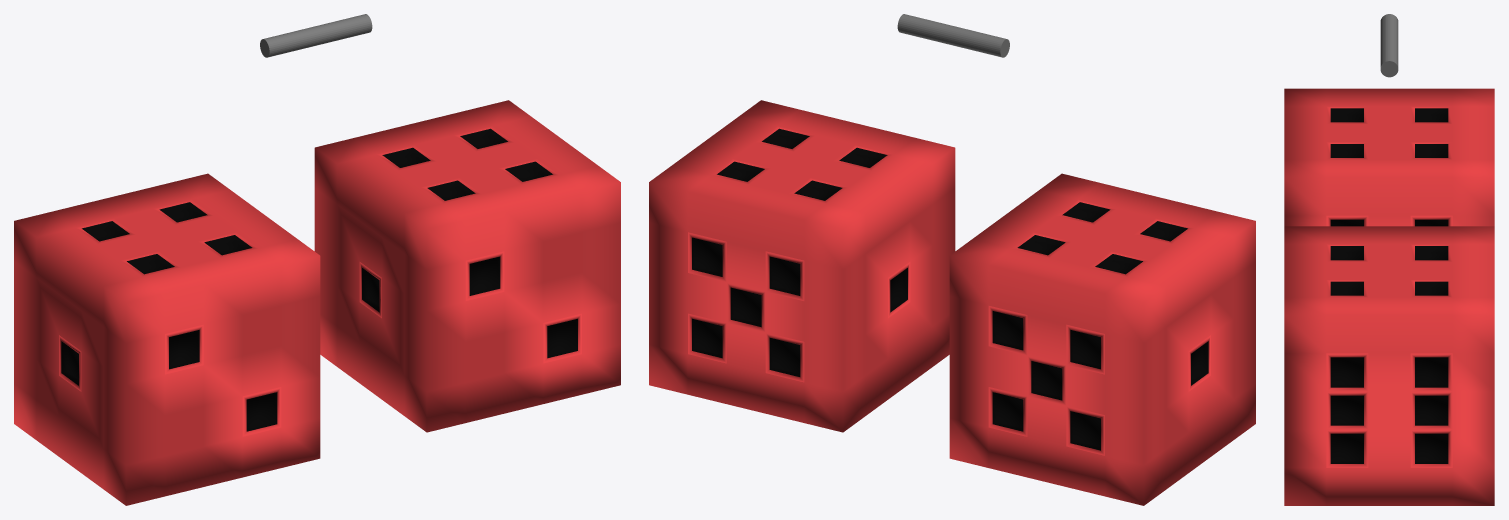
The model's file is blockydice.glb.
The picture shows the model from 3 angles, left to right: view 1: azimuth 30°, elevation 25°; view 2: azimuth 150°, elevation 25°; view 3: azimuth 270°, elevation 25°; orthographic projection. The views are drawn at different scales.
Visible parts, largest first — view 1: Cube.001, Cube, Cylinder; view 2: Cube.001, Cube, Cylinder; view 3: Cube, Cube.001, Cylinder.
Boxes of the visible parts, left/top/right/bottom form: Cube.001: left=14, top=173, right=320, bottom=505; Cube: left=314, top=100, right=620, bottom=432; Cylinder: left=260, top=14, right=372, bottom=57; Cube.001: left=949, top=173, right=1255, bottom=505; Cube: left=649, top=100, right=955, bottom=432; Cylinder: left=897, top=14, right=1009, bottom=57; Cube: left=1284, top=226, right=1494, bottom=505; Cube.001: left=1284, top=88, right=1494, bottom=226; Cylinder: left=1380, top=14, right=1398, bottom=77.
Bounding box in the file's own units: 5.1 × 3.72 × 2.
